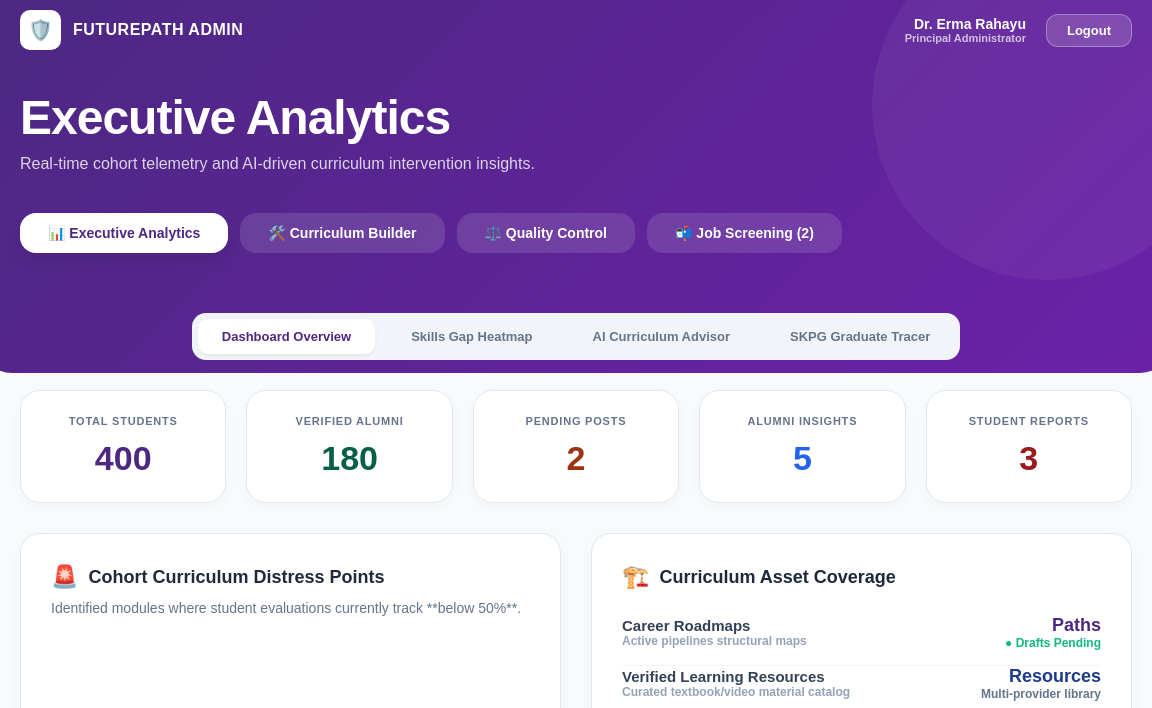
Scenario: AdminDashboard Integration & Heatmap Logic › displays correct moderation queue count and cards
This screenshot has width=1152, height=708.
Note: Click the tab
Click the button "📬 Job Screening (2)" at point(744, 233), box [647, 213, 842, 253]
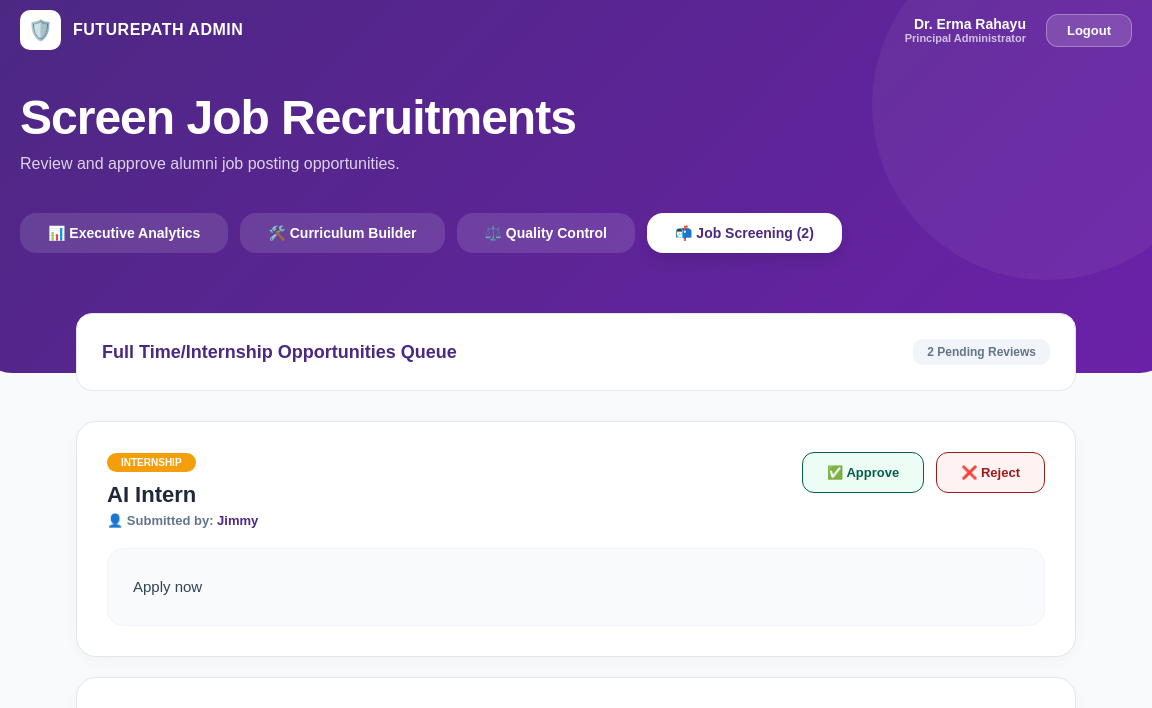
Check: the heading "AI Intern" is shown, box [107, 482, 196, 507]
Check: the text "2 Pending Reviews" is shown, box [913, 339, 1050, 365]
